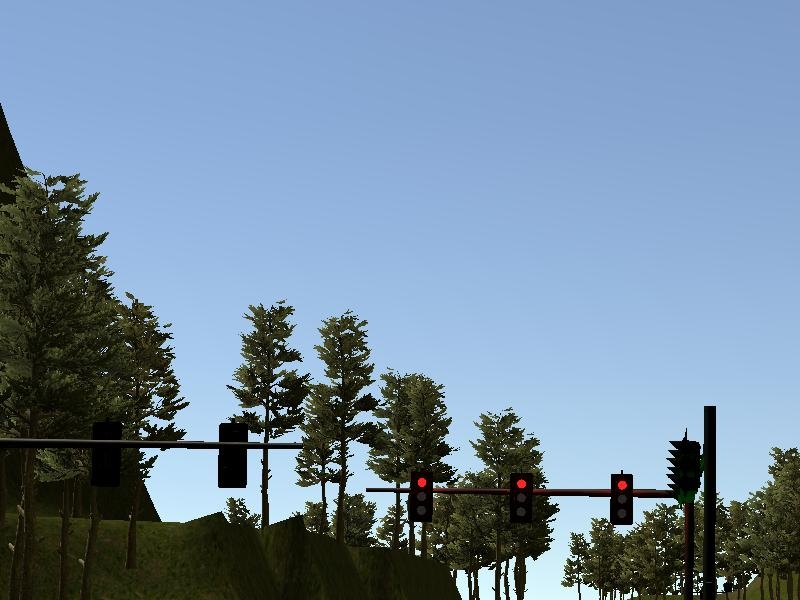Red: (610, 473, 634, 526), (508, 472, 532, 523), (409, 471, 432, 524)
